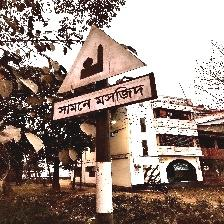Mosque in front: (53, 24, 156, 123)
